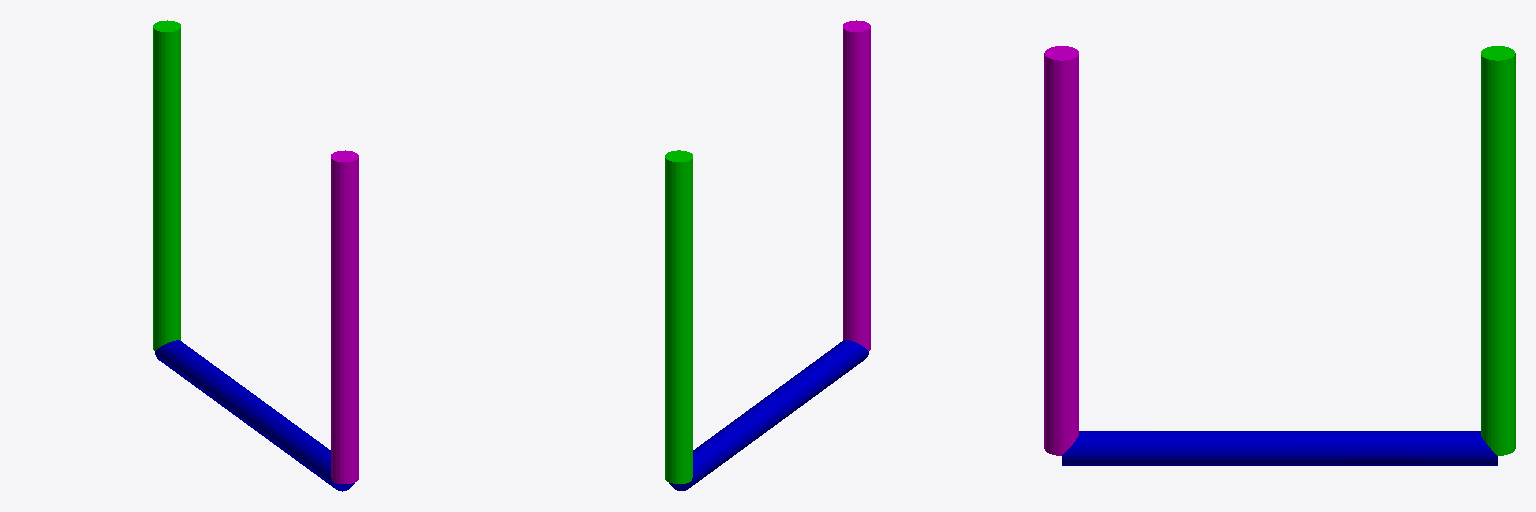
The robot description file, URDF, robot "tmp2":
<?xml version="1.0"?>
<robot name="tmp2">
  <link name="base_link">
    <visual>
      <origin xyz="0 0.25 0" rpy="1.57 0 0" />
      <geometry>
        <cylinder radius="0.02" length="0.5" />
      </geometry>
      <material name="blue">
        <color rgba="0 0 .8 1" />
      </material>
    </visual>
  </link>

  <joint name="joint0" type="revolute">
    <parent link="base_link"/>
    <child link="link1"/>
    <origin xyz="0 0 0" rpy="0 0 0" />
    <axis xyz="1 0 0" />
    <limit lower="-1.57" upper="1.57" effort="0.5293" velocity="6.159937255" />
  </joint>

  <link name="link1">
    <visual>
      <origin xyz="0 0 0.25" rpy="0 0 0" />
      <geometry>
        <cylinder radius="0.02" length="0.5" />
      </geometry>
      <material name="yellow">
        <color rgba=".8 0 .8 1" />
      </material>
    </visual>
  </link>

  <joint name="joint1" type="revolute">
    <parent link="base_link"/>
    <child link="link2"/>
    <origin xyz="0 0.5 0" rpy="0 0 0" />
    <axis xyz="1 0 0" />
    <limit lower="-1.57" upper="1.57" effort="0.5293" velocity="6.159937255" />
    <mimic joint="joint0" multiplier="0.8" offset="0" />
  </joint>

  <link name="link2">
    <visual>
      <origin xyz="0 0 0.25" rpy="0 0 0" />
      <geometry>
        <cylinder radius="0.02" length="0.5" />
      </geometry>
      <material name="green">
        <color rgba="0 .8 0 1" />
      </material>
    </visual>
  </link>
</robot>

--- Facts derived from the render (not from the file) ---
The picture shows the robot from 3 angles, left to right: view 1: azimuth 30°, elevation 25°; view 2: azimuth 150°, elevation 25°; view 3: azimuth 270°, elevation 25°; orthographic projection.
Model tmp2 with 3 links and 2 joints (2 revolute), rooted at base_link, posed every joint at zero.
Visible links, largest first — view 1: link1, link2, base_link; view 2: link2, link1, base_link; view 3: base_link, link2, link1.
Link boxes in pixels (x1,y1,x2,y2): link1: [331, 150, 358, 483]; link2: [153, 20, 180, 350]; base_link: [155, 340, 354, 491]; link2: [665, 150, 692, 483]; link1: [843, 20, 870, 350]; base_link: [669, 340, 868, 490]; base_link: [1062, 431, 1497, 465]; link2: [1481, 46, 1515, 455]; link1: [1044, 46, 1078, 455].
Bounding box of the posed robot: 0.04 × 0.54 × 0.5202 m (x, y, z).
Geometry: primitives only (box / cylinder / sphere), no mesh files.